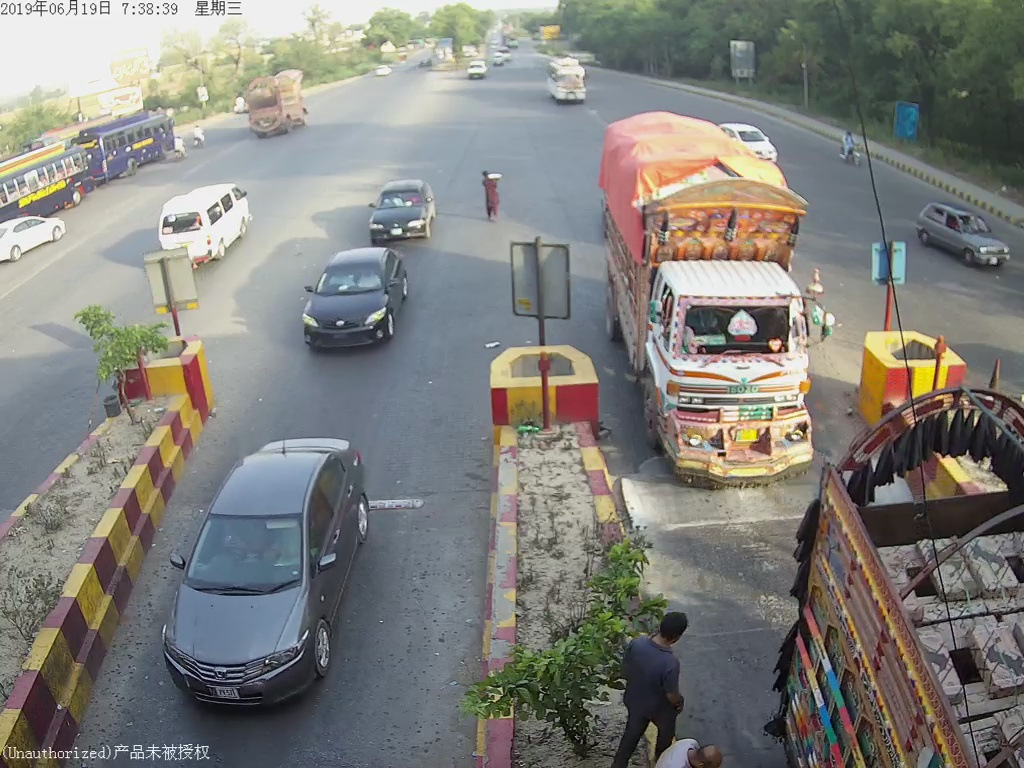Cat-1: (162, 429, 375, 708), (304, 248, 412, 349), (921, 196, 1009, 269), (360, 173, 437, 245)
Cat-3: (543, 52, 589, 105)
Cat-4: (596, 124, 824, 479)
